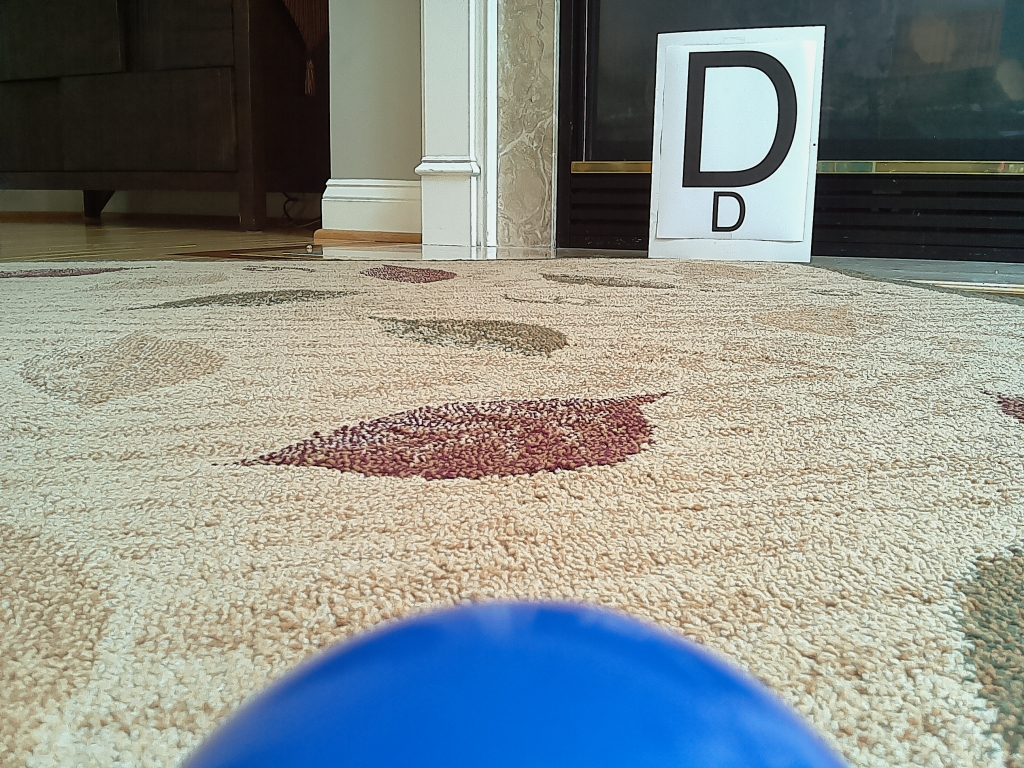letter: (689, 50, 798, 187)
